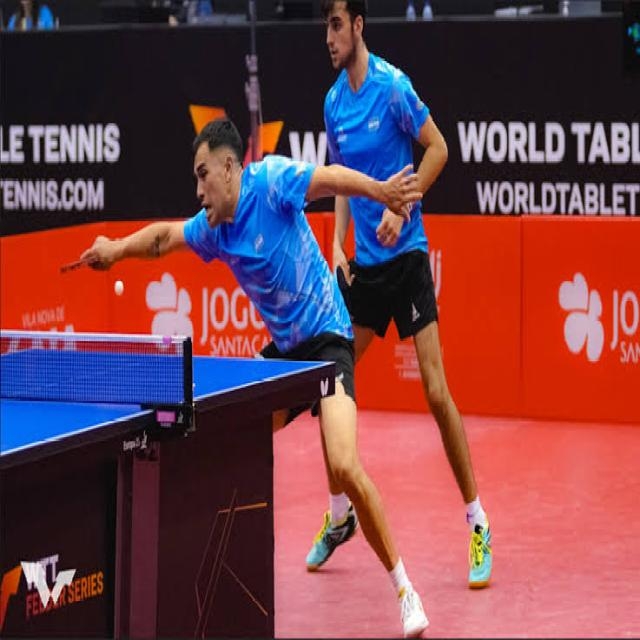TT Net: (0, 327, 194, 414)
TT Racket: (56, 251, 101, 283)
TT Table: (0, 346, 336, 455)
